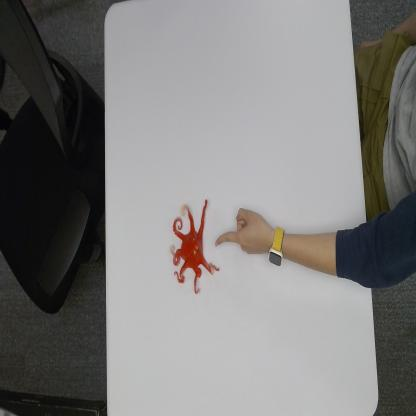Arm: (286, 211, 374, 283)
Hand: (214, 204, 266, 256)
Octopus: (168, 195, 219, 296)
